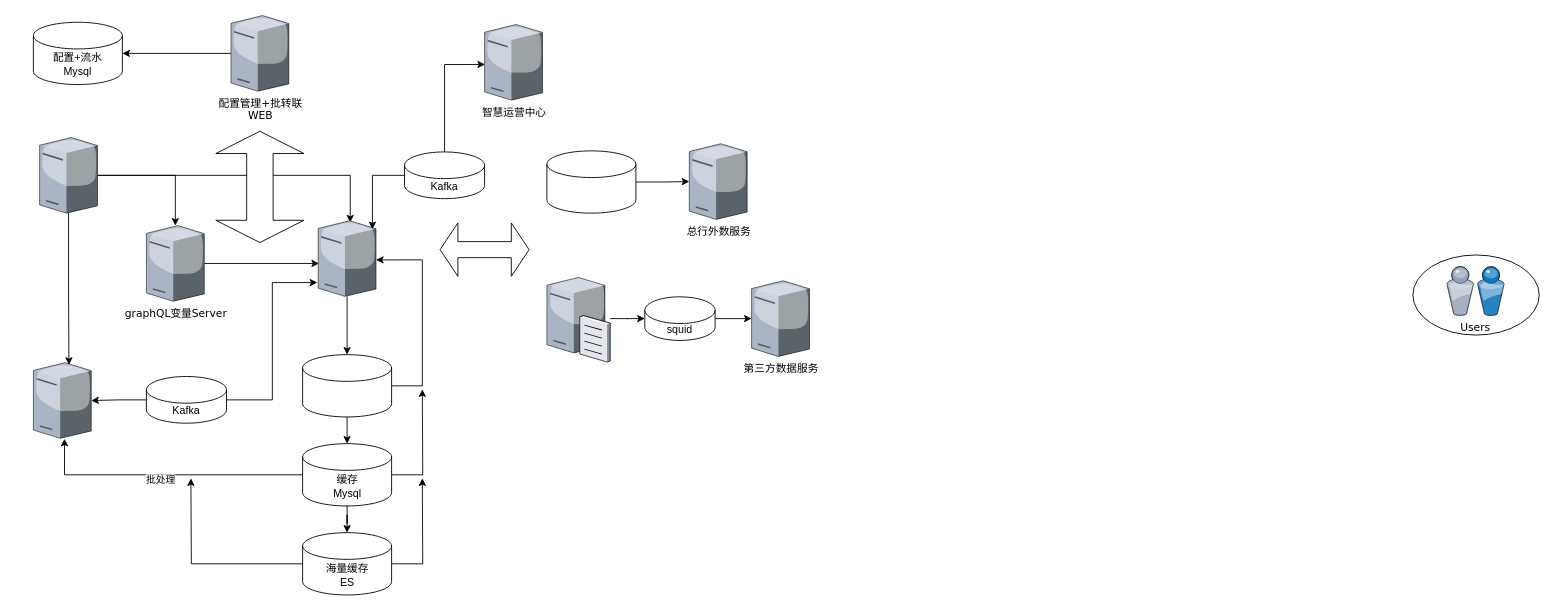
Some shapes in this 1555 by 611 pixel diagram are drawn without their labels. Each missing label, with the centre of its shape:
EGSP SofaMQ: the point at 591,181
redis: the point at 347,385
TOUDA网关: the point at 578,318
卡中心touda业务系统: the point at 68,175
外数Server: the point at 347,258
衍生变量Server: the point at 62,400
